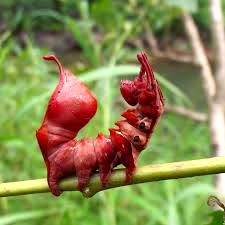Lobster Moth: (24, 46, 175, 199)
